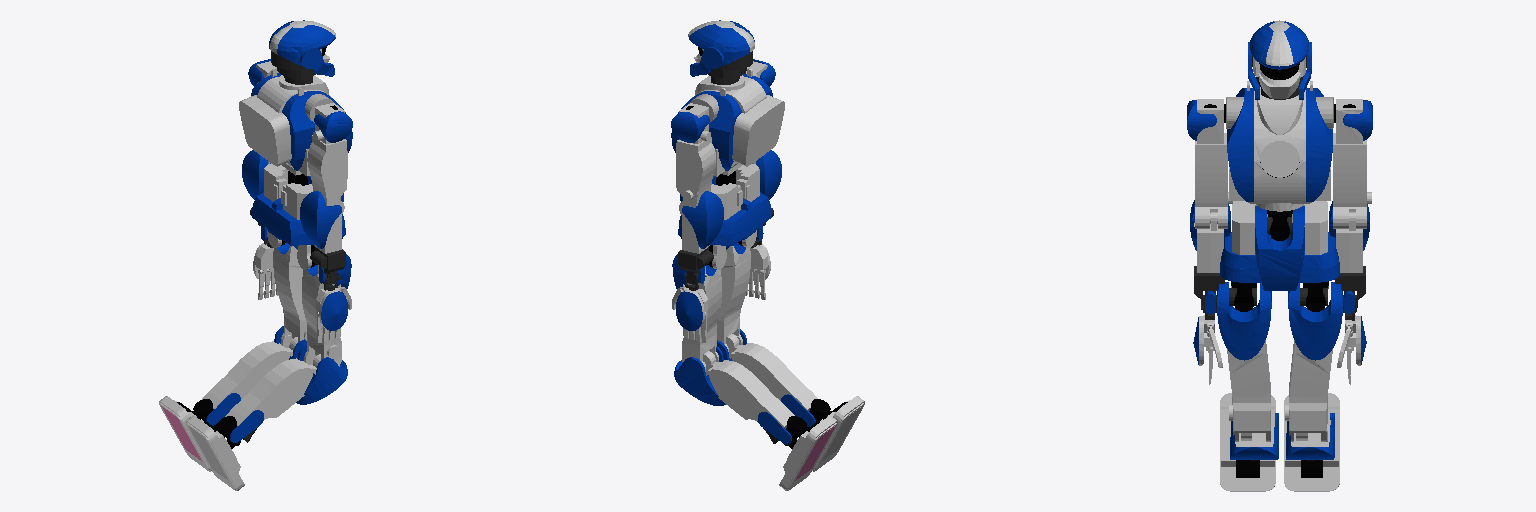
--- Facts derived from the render (not from the file) ---
Views: 3 orthographic renders of the robot side by side, from view 1: azimuth 30°, elevation 25°; view 2: azimuth 150°, elevation 25°; view 3: azimuth 270°, elevation 25°.
Model hrp4 with 55 links and 54 joints (24 revolute, 30 fixed), rooted at body, posed joints at zero except 2 at the middle of their limits (R_KNEE_P = 1.09, L_KNEE_P = 1.09).
Links seen in each view (by area): view 1: torso, R_KNEE_P_LINK, body, L_KNEE_P_LINK, NECK_P_LINK, L_HIP_P_LINK, R_SHOULDER_Y_LINK, R_HIP_P_LINK, R_ELBOW_P_LINK, r_ankle, R_SHOULDER_R_LINK, r_wrist (+4 smaller); view 2: torso, L_KNEE_P_LINK, body, R_KNEE_P_LINK, NECK_P_LINK, R_HIP_P_LINK, L_SHOULDER_Y_LINK, L_HIP_P_LINK, L_ELBOW_P_LINK, l_ankle, L_SHOULDER_R_LINK, l_wrist (+4 smaller); view 3: torso, body, L_HIP_P_LINK, R_HIP_P_LINK, NECK_P_LINK, L_SHOULDER_Y_LINK, R_SHOULDER_Y_LINK, r_ankle, l_ankle, R_ELBOW_P_LINK, L_ELBOW_P_LINK, R_SHOULDER_R_LINK (+10 smaller).
Link boxes in pixels (<box>): torso: <box>239,67,352,175</box>; R_KNEE_P_LINK: <box>225,343,347,442</box>; body: <box>252,164,345,245</box>; L_KNEE_P_LINK: <box>202,326,306,425</box>; NECK_P_LINK: <box>269,20,335,76</box>; L_HIP_P_LINK: <box>273,243,306,347</box>; R_SHOULDER_Y_LINK: <box>307,135,347,216</box>; R_HIP_P_LINK: <box>302,254,351,366</box>; R_ELBOW_P_LINK: <box>300,191,341,253</box>; r_ankle: <box>186,415,244,490</box>; R_SHOULDER_R_LINK: <box>313,103,352,143</box>; r_wrist: <box>316,275,347,330</box>; torso: <box>671,68,784,176</box>; L_KNEE_P_LINK: <box>674,347,794,444</box>; body: <box>678,164,771,245</box>; R_KNEE_P_LINK: <box>717,329,817,426</box>; NECK_P_LINK: <box>688,20,754,76</box>; R_HIP_P_LINK: <box>717,243,750,351</box>; L_SHOULDER_Y_LINK: <box>676,137,715,217</box>; L_HIP_P_LINK: <box>672,254,721,371</box>; L_ELBOW_P_LINK: <box>682,191,723,253</box>; l_ankle: <box>779,415,837,490</box>; L_SHOULDER_R_LINK: <box>671,103,710,143</box>; l_wrist: <box>676,273,707,330</box>; torso: <box>1226,81,1333,211</box>; body: <box>1220,201,1339,290</box>; L_HIP_P_LINK: <box>1285,282,1342,441</box>; R_HIP_P_LINK: <box>1217,282,1271,441</box>; NECK_P_LINK: <box>1248,20,1311,99</box>; L_SHOULDER_Y_LINK: <box>1333,133,1371,228</box>; R_SHOULDER_Y_LINK: <box>1195,133,1232,228</box>; r_ankle: <box>1220,393,1275,491</box>; l_ankle: <box>1284,393,1339,491</box>; R_ELBOW_P_LINK: <box>1190,200,1230,272</box>; L_ELBOW_P_LINK: <box>1329,201,1369,272</box>; R_SHOULDER_R_LINK: <box>1187,99,1223,143</box>.
Bounding box of the posed robot: 0.5198 × 0.456 × 1.39 m (x, y, z).
Meshes: 33 distinct files referenced, 54 mesh visuals loaded (33 Collada DAE).

URDF robot description (hrp4):
<?xml version="1.0" ?>
<!-- =================================================================================== -->
<!-- |    This document was autogenerated by xacro from [local-path]/devel-src/catkin_ws/mc_ws/src/hrp4/hrp4_description/urdf/hrp4.xacro | -->
<!-- |    EDITING THIS FILE BY HAND IS NOT RECOMMENDED                                 | -->
<!-- =================================================================================== -->
<!--
   hrp4 URDF model

   FIXME: fill missing data: sole, gripper and sensors
  -->
<robot name="hrp4" xmlns:xacro="http://ros.org/wiki/xacro">
  <link name="body">
    <inertial>
      <origin rpy="0 0 0" xyz="-0.0215609 0.00145914 0.14111505"/>
      <mass value="6.93472"/>
      <inertia ixx="0.05776087" ixy="7.331e-05" ixz="0.0014889" iyy="0.0285208" iyz="-0.00075717" izz="0.05527734"/>
    </inertial>
    <visual>
      <origin rpy="0 0 0" xyz="0 0 0"/>
      <geometry>
        <mesh filename="./meshes/WAIST_LINK.dae"/>
      </geometry>
    </visual>
    <collision>
      <origin rpy="0 0 0" xyz="0 0 0"/>
      <geometry>
        <mesh filename="./meshes/WAIST_LINK.dae"/>
      </geometry>
    </collision>
  </link>
  <link name="R_HIP_Y_LINK">
    <inertial>
      <origin rpy="0 0 0" xyz="-0.01667657 2e-08 0.04993135"/>
      <mass value="1.1356"/>
      <inertia ixx="0.00151524" ixy="-2.8e-07" ixz="-0.00048566" iyy="0.00231285" iyz="-0" izz="0.00149651"/>
    </inertial>
    <visual>
      <origin rpy="0 0 0" xyz="0 0 0"/>
      <geometry>
        <mesh filename="./meshes/HIP_Y.dae"/>
      </geometry>
    </visual>
    <collision>
      <origin rpy="0 0 0" xyz="0 0 0"/>
      <geometry>
        <mesh filename="./meshes/HIP_Y.dae"/>
      </geometry>
    </collision>
  </link>
  <link name="R_HIP_R_LINK">
    <inertial>
      <origin rpy="0 0 0" xyz="-0.00431692 0.00595121 -0.00052352"/>
      <mass value="0.58494148"/>
      <inertia ixx="0.00046475" ixy="-1.508e-05" ixz="-6.5e-07" iyy="0.00029804" iyz="2.39e-06" izz="0.00061763"/>
    </inertial>
    <visual>
      <origin rpy="0 0 0" xyz="0 0 0"/>
      <geometry>
        <mesh filename="./meshes/CHEST_P.dae"/>
      </geometry>
    </visual>
    <collision>
      <origin rpy="0 0 0" xyz="0 0 0"/>
      <geometry>
        <mesh filename="./meshes/CHEST_P.dae"/>
      </geometry>
    </collision>
  </link>
  <link name="R_HIP_P_LINK">
    <inertial>
      <origin rpy="0 0 0" xyz="0.00401404 0.01530275 -0.18851723"/>
      <mass value="2.0648"/>
      <inertia ixx="0.03160432" ixy="-3.38e-06" ixz="0.00063965" iyy="0.03070237" iyz="0.00133966" izz="0.00275655"/>
    </inertial>
    <visual>
      <origin rpy="0 0 0" xyz="0 0 0"/>
      <geometry>
        <mesh filename="./meshes/R_HIP_P.dae"/>
      </geometry>
    </visual>
    <collision>
      <origin rpy="0 0 0" xyz="0 0 0"/>
      <geometry>
        <mesh filename="./meshes/R_HIP_P.dae"/>
      </geometry>
    </collision>
  </link>
  <link name="R_KNEE_P_LINK">
    <inertial>
      <origin rpy="0 0 0" xyz="-0.01122115 -0.00133701 -0.15252868"/>
      <mass value="2.08123"/>
      <inertia ixx="0.01900442" ixy="-4.75e-06" ixz="-0.0014589" iyy="0.01944097" iyz="2.008e-05" izz="0.00189659"/>
    </inertial>
    <visual>
      <origin rpy="0 0 0" xyz="0 0 0"/>
      <geometry>
        <mesh filename="./meshes/R_KNEE_P.dae"/>
      </geometry>
    </visual>
    <collision>
      <origin rpy="0 0 0" xyz="0 0 0"/>
      <geometry>
        <mesh filename="./meshes/R_KNEE_P.dae"/>
      </geometry>
    </collision>
  </link>
  <link name="R_ANKLE_P_LINK">
    <inertial>
      <origin rpy="0 0 0" xyz="-0.00368911 -0.00015844 0.00129883"/>
      <mass value="0.26784726"/>
      <inertia ixx="8.094e-05" ixy="-1.6e-07" ixz="-1.33e-06" iyy="0.00015522" iyz="-7e-08" izz="0.00017313"/>
    </inertial>
    <visual>
      <origin rpy="0 0 0" xyz="0 0 0"/>
      <geometry>
        <mesh filename="./meshes/L_ANKLE_P.dae"/>
      </geometry>
    </visual>
    <collision>
      <origin rpy="0 0 0" xyz="0 0 0"/>
      <geometry>
        <mesh filename="./meshes/L_ANKLE_P.dae"/>
      </geometry>
    </collision>
  </link>
  <link name="R_ANKLE_R_LINK">
    <inertial>
      <origin rpy="0 0 0" xyz="-0.00340792 1e-08 -0.04591586"/>
      <mass value="0.72287828"/>
      <inertia ixx="0.00092215" ixy="0" ixz="0.00011963" iyy="0.00102289" iyz="0" izz="0.00089314"/>
    </inertial>
    <visual>
      <origin rpy="0 0 0" xyz="0 0 0"/>
      <geometry>
        <mesh filename="./meshes/R_ANKLE_R.dae"/>
      </geometry>
    </visual>
    <collision>
      <origin rpy="0 0 0" xyz="0 0 0"/>
      <geometry>
        <mesh filename="./meshes/R_ANKLE_R.dae"/>
      </geometry>
    </collision>
  </link>

  <link name="r_sole">
    <inertial>
      <origin rpy="0 0 0" xyz="0 0 0"/>
      <mass value="0.001"/>
      <inertia ixx="0.00001" ixy="0" ixz="0" iyy="0.00001" iyz="0" izz="0.00001"/>
    </inertial>

   <visual>
      <geometry>
        <box size="0.18 0.1 0.007"/>
      </geometry>
      <origin rpy="0 0 0" xyz="0.0 -0.01 0.0029"/>
    </visual>
   <collision>
     <geometry>
        <box size="0.18 0.1 0.007"/>
      </geometry>
      <origin rpy="0 0 0" xyz="0.0 -0.01 0.0029"/>
    </collision>
    <!--inertial>
      <mass value="1.0"/>
      <mu value="0.5"/>
      <inertia ixx="1.1e-09" ixy="0" ixz="0" iyy="1.1e-09" iyz="0" izz="1.1e-09"/>
    </inertial-->

  </link>
<!--
  <link name="r_sole">
 <collision>
      <geometry>
        <box size="0.08 0.08 0.001"/>
      </geometry>
      <origin rpy="0 0.00 0.002" xyz="0.0 0.005 0"/>
    </collision>
    <inertial>
      <mass value="2e-06"/>
      <inertia ixx="1.1e-09" ixy="0" ixz="0" iyy="1.1e-09" iyz="0" izz="1.1e-09"/>
    </inertial>
  </link>-->
  <link name="L_HIP_Y_LINK">
    <inertial>
      <origin rpy="0 0 0" xyz="-0.01667657 2e-08 0.04993135"/>
      <mass value="1.1356"/>
      <inertia ixx="0.00151524" ixy="-2.8e-07" ixz="-0.00048566" iyy="0.00231285" iyz="-0" izz="0.00149651"/>
    </inertial>
    <visual>
      <origin rpy="0 0 0" xyz="0 0 0"/>
      <geometry>
        <mesh filename="./meshes/HIP_Y.dae"/>
      </geometry>
    </visual>
    <collision>
      <origin rpy="0 0 0" xyz="0 0 0"/>
      <geometry>
        <mesh filename="./meshes/HIP_Y.dae"/>
      </geometry>
    </collision>
  </link>
  <link name="L_HIP_R_LINK">
    <inertial>
      <origin rpy="0 0 0" xyz="-0.00431692 0.00595121 -0.00052352"/>
      <mass value="0.58494148"/>
      <inertia ixx="0.00046475" ixy="-1.508e-05" ixz="-6.5e-07" iyy="0.00029804" iyz="2.39e-06" izz="0.00061763"/>
    </inertial>
    <visual>
      <origin rpy="0 0 0" xyz="0 0 0"/>
      <geometry>
        <mesh filename="./meshes/CHEST_P.dae"/>
      </geometry>
    </visual>
    <collision>
      <origin rpy="0 0 0" xyz="0 0 0"/>
      <geometry>
        <mesh filename="./meshes/CHEST_P.dae"/>
      </geometry>
    </collision>
  </link>
  <link name="L_HIP_P_LINK">
    <inertial>
      <origin rpy="0 0 0" xyz="0.00400906 -0.00541624 -0.18827632"/>
      <mass value="2.06366"/>
      <inertia ixx="0.03174381" ixy="9.784e-05" ixz="0.00063909" iyy="0.03068623" iyz="-0.00254187" izz="0.00291548"/>
    </inertial>
    <visual>
      <origin rpy="0 0 0" xyz="0 0 0"/>
      <geometry>
        <mesh filename="./meshes/L_HIP_P.dae"/>
      </geometry>
    </visual>
    <collision>
      <origin rpy="0 0 0" xyz="0 0 0"/>
      <geometry>
        <mesh filename="./meshes/L_HIP_P.dae"/>
      </geometry>
    </collision>
  </link>
  <link name="L_KNEE_P_LINK">
    <inertial>
      <origin rpy="0 0 0" xyz="-0.01122115 -0.00133701 -0.15252868"/>
      <mass value="2.08123"/>
      <inertia ixx="0.01900442" ixy="-4.75e-06" ixz="-0.0014589" iyy="0.01944097" iyz="2.008e-05" izz="0.00189659"/>
    </inertial>
    <visual>
      <origin rpy="0 0 0" xyz="0 0 0"/>
      <geometry>
        <mesh filename="./meshes/L_KNEE_P.dae"/>
      </geometry>
    </visual>
    <collision>
      <origin rpy="0 0 0" xyz="0 0 0"/>
      <geometry>
        <mesh filename="./meshes/L_KNEE_P.dae"/>
      </geometry>
    </collision>
  </link>
  <link name="L_ANKLE_P_LINK">
    <inertial>
      <origin rpy="0 0 0" xyz="-0.00368911 -0.00015844 0.00129883"/>
      <mass value="0.26784726"/>
      <inertia ixx="8.094e-05" ixy="-1.6e-07" ixz="-1.33e-06" iyy="0.00015522" iyz="-7e-08" izz="0.00017313"/>
    </inertial>
    <visual>
      <origin rpy="0 0 0" xyz="0 0 0"/>
      <geometry>
        <mesh filename="./meshes/L_ANKLE_P.dae"/>
      </geometry>
    </visual>
    <collision>
      <origin rpy="0 0 0" xyz="0 0 0"/>
      <geometry>
        <mesh filename="./meshes/L_ANKLE_P.dae"/>
      </geometry>
    </collision>
  </link>
  <link name="L_ANKLE_R_LINK">
    <inertial>
      <origin rpy="0 0 0" xyz="-0.00340792 0 -0.04591586"/>
      <mass value="0.72287828"/>
      <inertia ixx="0.00092215" ixy="-0" ixz="0.00011963" iyy="0.00102289" iyz="-0" izz="0.00089314"/>
    </inertial>
    <visual>
      <origin rpy="0 0 0" xyz="0 0 0"/>
      <geometry>
        <mesh filename="./meshes/L_ANKLE_R.dae"/>
      </geometry>
    </visual>
    <collision>
      <origin rpy="0 0 0" xyz="0 0 0"/>
      <geometry>
        <mesh filename="./meshes/L_ANKLE_R.dae"/>
      </geometry>
    </collision>
  </link>

  <link name="l_sole">
    <inertial>
      <origin rpy="0 0 0" xyz="0 0 0"/>
      <mass value="0.001"/>
      <inertia ixx="0.00001" ixy="0" ixz="0" iyy="0.00001" iyz="0" izz="0.00001"/>
    </inertial>

   <visual>
      <geometry>
        <box size="0.18 0.1 0.007"/>
      </geometry>
      <origin rpy="0 0 0" xyz="0.0 0.010 0.0029"/>
    </visual>
   <collision>
      <geometry>
        <box size="0.18 0.1 0.007"/>
      </geometry>
      <origin rpy="0 0 0" xyz="0.0 0.010 0.0029"/>
    </collision>
    <!--inertial>
      <mass value="1.0"/>
      <mu value="0.5"/>
      <inertia ixx="1.1e-09" ixy="0" ixz="0" iyy="1.1e-09" iyz="0" izz="1.1e-09"/>
    </inertial>
-->

  </link>
<!--
  <link name="l_sole">
   <collision>
      <geometry>
        <box size="0.14 0.078 0.007"/>
      </geometry>
      <origin rpy="0 0.00 0.002" xyz="0.0 0.005 0"/>
    </collision>
    <inertial>
      <mass value="2e-06"/>
      <inertia ixx="1.1e-09" ixy="0" ixz="0" iyy="1.1e-09" iyz="0" izz="1.1e-09"/>
    </inertial>
  </link>-->
  <link name="CHEST_P_LINK">
    <inertial>
      <origin rpy="0 0 0" xyz="-0.00442006 0.00280574 0.03664874"/>
      <mass value="1.24072"/>
      <inertia ixx="0.00250228" ixy="-1.572e-05" ixz="-1.986e-05" iyy="0.00266086" iyz="0.00013179" izz="0.0015461"/>
    </inertial>
    <visual>
      <origin rpy="0 0 0" xyz="0 0 0"/>
      <geometry>
        <mesh filename="./meshes/CHEST_P.dae"/>
      </geometry>
    </visual>
    <visual>
      <origin rpy="0 0 0" xyz="0 0 0"/>
      <geometry>
        <mesh filename="./meshes/CHEST_R.dae"/>
      </geometry>
    </visual>
    <collision>
      <origin rpy="0 0 0" xyz="0 0 0"/>
      <geometry>
        <mesh filename="./meshes/CHEST_P.dae"/>
      </geometry>
    </collision>
    <collision>
      <origin rpy="0 0 0" xyz="0 0 0"/>
      <geometry>
        <mesh filename="./meshes/CHEST_P.dae"/>
      </geometry>
    </collision>
  </link>
  <link name="torso">
    <inertial>
      <origin rpy="0 0 0" xyz="-0.02868847 -0.00245957 0.20400698"/>
      <mass value="6.67348"/>
      <inertia ixx="0.06656275" ixy="-9.681e-05" ixz="0.00599103" iyy="0.05508979" iyz="-0.00017557" izz="0.04262738"/>
    </inertial>
    <visual>
      <origin rpy="0 0 0" xyz="0 0 0"/>
      <geometry>
        <mesh filename="./meshes/CHEST_Y.dae"/>
      </geometry>
    </visual>
    <collision>
      <origin rpy="0 0 0" xyz="0 0 0"/>
      <geometry>
        <mesh filename="./meshes/CHEST_Y.dae"/>
      </geometry>
    </collision>
  </link>
  <link name="NECK_Y_LINK">
    <inertial>
      <origin rpy="0 0 0" xyz="-0.01142441 0.00157484 -0.02134892"/>
      <mass value="0.41214752"/>
      <inertia ixx="0.00061014" ixy="4.35e-06" ixz="7.329e-05" iyy="0.00068918" iyz="-1.384e-05" izz="0.00040587"/>
    </inertial>
    <visual>
      <origin rpy="0 0 0" xyz="0 0 0"/>
      <geometry>
        <mesh filename="./meshes/NECK_Y.dae"/>
      </geometry>
    </visual>
    <collision>
      <origin rpy="0 0 0" xyz="0 0 0"/>
      <geometry>
        <mesh filename="./meshes/NECK_Y.dae"/>
      </geometry>
    </collision>
  </link>
  <link name="NECK_P_LINK">
    <inertial>
      <origin rpy="0 0 0" xyz="0.00532833 -0.00053047 0.0176936"/>
      <mass value="0.22297511"/>
      <inertia ixx="0.00069884" ixy="-7e-07" ixz="3.33e-05" iyy="0.00093286" iyz="-1.51e-06" izz="0.00100342"/>
    </inertial>
    <visual>
      <origin rpy="0 0 0" xyz="0 0 0"/>
      <geometry>
        <mesh filename="./meshes/NECK_P.dae"/>
      </geometry>
    </visual>
    <collision>
      <origin rpy="0 0 0" xyz="0 0 0"/>
      <geometry>
        <mesh filename="./meshes/NECK_P.dae"/>
      </geometry>
    </collision>
  </link>
  <link name="R_SHOULDER_P_LINK">
    <inertial>
      <origin rpy="0 0 0" xyz="0.00141599 0.04257567 0.00031503"/>
      <mass value="0.42049079"/>
      <inertia ixx="0.00044203" ixy="-4.93e-06" ixz="-6.1e-07" iyy="0.00014181" iyz="-3.34e-06" izz="0.00044502"/>
    </inertial>
    <visual>
      <origin rpy="0 0 0" xyz="0 0 0"/>
      <geometry>
        <mesh filename="./meshes/R_SHOULDER_P.dae"/>
      </geometry>
    </visual>
    <collision>
      <origin rpy="0 0 0" xyz="0 0 0"/>
      <geometry>
        <mesh filename="./meshes/R_SHOULDER_P.dae"/>
      </geometry>
    </collision>
  </link>
  <link name="R_SHOULDER_R_LINK">
    <inertial>
      <origin rpy="0 0 0" xyz="0.00019752 -0.00272557 -0.04191141"/>
      <mass value="0.52070922"/>
      <inertia ixx="0.00062647" ixy="-7.3e-06" ixz="-6.476e-05" iyy="0.00071812" iyz="1.818e-05" izz="0.00029856"/>
    </inertial>
    <visual>
      <origin rpy="0 0 0" xyz="0 0 0"/>
      <geometry>
        <mesh filename="./meshes/R_SHOULDER_R.dae"/>
      </geometry>
    </visual>
    <collision>
      <origin rpy="0 0 0" xyz="0 0 0"/>
      <geometry>
        <mesh filename="./meshes/R_SHOULDER_R.dae"/>
      </geometry>
    </collision>
  </link>
  <link name="R_SHOULDER_Y_LINK">
    <inertial>
      <origin rpy="0 0 0" xyz="-0.00273859 -0.00036268 -0.17426645"/>
      <mass value="1.0874"/>
      <inertia ixx="0.00553694" ixy="1.18e-05" ixz="-4.295e-05" iyy="0.00556222" iyz="-9.379e-05" izz="0.00071841"/>
    </inertial>
    <visual>
      <origin rpy="0 0 0" xyz="0 0 0"/>
      <geometry>
        <mesh filename="./meshes/SHOULDER_Y.dae"/>
      </geometry>
    </visual>
    <collision>
      <origin rpy="0 0 0" xyz="0 0 0"/>
      <geometry>
        <mesh filename="./meshes/SHOULDER_Y.dae"/>
      </geometry>
    </collision>
  </link>
  <link name="R_ELBOW_P_LINK">
    <inertial>
      <origin rpy="0 0 0" xyz="-0.01222096 0.00049299 -0.07271909"/>
      <mass value="0.6594031"/>
      <inertia ixx="0.00121955" ixy="3.9e-06" ixz="4.22e-05" iyy="0.00135563" iyz="-1.497e-05" izz="0.00047041"/>
    </inertial>
    <visual>
      <origin rpy="0 0 0" xyz="0 0 0"/>
      <geometry>
        <mesh filename="./meshes/ELBOW_P.dae"/>
      </geometry>
    </visual>
    <collision>
      <origin rpy="0 0 0" xyz="0 0 0"/>
      <geometry>
        <mesh filename="./meshes/ELBOW_P.dae"/>
      </geometry>
    </collision>
  </link>
  <link name="R_WRIST_Y_LINK">
    <inertial>
      <origin rpy="0 0 0" xyz="-0.00749481 9.419e-05 -0.17044123"/>
      <mass value="0.38384092"/>
      <inertia ixx="0.00027044" ixy="-9.74e-06" ixz="1.069e-05" iyy="0.00027334" iyz="1.745e-05" izz="0.00022347"/>
    </inertial>
    <visual>
      <origin rpy="0 0 0" xyz="0 0 0"/>
      <geometry>
        <mesh filename="./meshes/R_WRIST_Y.dae"/>
      </geometry>
    </visual>
    <collision>
      <origin rpy="0 0 0" xyz="0 0 0"/>
      <geometry>
        <mesh filename="./meshes/R_WRIST_Y.dae"/>
      </geometry>
    </collision>
  </link>
  <link name="R_WRIST_P_LINK">
    <inertial>
      <origin rpy="0 0 0" xyz="0.00255098 0.00162183 0.01074678"/>
      <mass value="0.25425855"/>
      <inertia ixx="8.763e-05" ixy="1.53e-06" ixz="-3.48e-06" iyy="9.159e-05" iyz="4.48e-06" izz="5.571e-05"/>
    </inertial>
    <visual>
      <origin rpy="0 0 0" xyz="0 0 0"/>
      <geometry>
        <mesh filename="./meshes/WRIST_P.dae"/>
      </geometry>
    </visual>
    <collision>
      <origin rpy="0 0 0" xyz="0 0 0"/>
      <geometry>
        <mesh filename="./meshes/WRIST_P.dae"/>
      </geometry>
    </collision>
  </link>
  <link name="r_wrist">
    <inertial>
      <origin rpy="0 0 0" xyz="-0.00357307 -0.00756083 -0.07562434"/>
      <mass value="0.38811052"/>
      <inertia ixx="0.00041744" ixy="-2.58e-06" ixz="-3.079e-05" iyy="0.00053272" iyz="-4.178e-05" izz="0.00022506"/>
    </inertial>
    <visual>
      <origin rpy="0 0 0" xyz="0 0 0"/>
      <geometry>
        <mesh filename="./meshes/R_WRIST_R.dae"/>
      </geometry>
    </visual>
    <collision>
      <origin rpy="0 0 0" xyz="0 0 0"/>
      <geometry>
        <mesh filename="./meshes/R_WRIST_R.dae"/>
      </geometry>
    </collision>
  </link>
  <link name="R_HAND_J0_LINK">
    <inertial>
      <origin rpy="0 0 0" xyz="0.03905018 0.0103447 -0.02583122"/>
      <mass value="0.02982352"/>
      <inertia ixx="1.307e-05" ixy="-6.2e-06" ixz="1.249e-05" iyy="2.885e-05" iyz="4.36e-06" izz="2.119e-05"/>
    </inertial>
    <visual>
      <origin rpy="0 0 0" xyz="0 0 0"/>
      <geometry>
        <mesh filename="./meshes/R_THUMB.dae"/>
      </geometry>
    </visual>
    <collision>
      <origin rpy="0 0 0" xyz="0 0 0"/>
      <geometry>
        <mesh filename="./meshes/R_THUMB.dae"/>
      </geometry>
    </collision>
  </link>
  <link name="R_HAND_J1_LINK">
    <inertial>
      <origin rpy="0 0 0" xyz="-0.00520681 -8.854e-05 -0.01902284"/>
      <mass value="0.07696483"/>
      <inertia ixx="2.17e-05" ixy="-3e-08" ixz="-2.2e-07" iyy="5.741e-05" iyz="1e-07" izz="3.728e-05"/>
    </inertial>
    <visual>
      <origin rpy="0 0 0" xyz="0 0 0"/>
      <geometry>
        <mesh filename="./meshes/R_F1.dae"/>
      </geometry>
    </visual>
    <collision>
      <origin rpy="0 0 0" xyz="0 0 0"/>
      <geometry>
        <mesh filename="./meshes/R_F1.dae"/>
      </geometry>
    </collision>
  </link>
  <link name="R_F22_LINK">
    <inertial>
      <origin rpy="0 0 0" xyz="-0.00031853 0.00034526 -0.01168186"/>
      <mass value="0.00446884"/>
      <inertia ixx="3.2e-07" ixy="-0" ixz="-0" iyy="3.4e-07" iyz="-0" izz="9e-08"/>
    </inertial>
    <visual>
      <origin rpy="0 0 0" xyz="0 0 0"/>
      <geometry>
        <mesh filename="./meshes/F2.dae"/>
      </geometry>
    </visual>
    <collision>
      <origin rpy="0 0 0" xyz="0 0 0"/>
      <geometry>
        <mesh filename="./meshes/F2.dae"/>
      </geometry>
    </collision>
  </link>
  <link name="R_F23_LINK">
    <inertial>
      <origin rpy="0 0 0" xyz="-0.00035576 -0.00103228 -0.00714888"/>
      <mass value="0.0028745"/>
      <inertia ixx="1.6e-07" ixy="0" ixz="1e-08" iyy="2.1e-07" iyz="-2e-08" izz="7e-08"/>
    </inertial>
    <visual>
      <origin rpy="0 0 0" xyz="0 0 0"/>
      <geometry>
        <mesh filename="./meshes/F3.dae"/>
      </geometry>
    </visual>
    <collision>
      <origin rpy="0 0 0" xyz="0 0 0"/>
      <geometry>
        <mesh filename="./meshes/F3.dae"/>
      </geometry>
    </collision>
  </link>
  <link name="R_F32_LINK">
    <inertial>
      <origin rpy="0 0 0" xyz="-0.00031853 0.00034526 -0.01168186"/>
      <mass value="0.00446884"/>
      <inertia ixx="3.2e-07" ixy="-0" ixz="-0" iyy="3.4e-07" iyz="-0" izz="9e-08"/>
    </inertial>
    <visual>
      <origin rpy="0 0 0" xyz="0 0 0"/>
      <geometry>
        <mesh filename="./meshes/F2.dae"/>
      </geometry>
    </visual>
    <collision>
      <origin rpy="0 0 0" xyz="0 0 0"/>
      <geometry>
        <mesh filename="./meshes/F2.dae"/>
      </geometry>
    </collision>
  </link>
  <link name="R_F33_LINK">
    <inertial>
      <origin rpy="0 0 0" xyz="-0.00035576 -0.00103228 -0.00714888"/>
      <mass value="0.0028745"/>
      <inertia ixx="1.6e-07" ixy="0" ixz="1e-08" iyy="2.1e-07" iyz="-2e-08" izz="7e-08"/>
    </inertial>
    <visual>
      <origin rpy="0 0 0" xyz="0 0 0"/>
      <geometry>
        <mesh filename="./meshes/F3.dae"/>
      </geometry>
    </visual>
    <collision>
      <origin rpy="0 0 0" xyz="0 0 0"/>
      <geometry>
        <mesh filename="./meshes/F3.dae"/>
      </geometry>
    </collision>
  </link>
  <link name="R_F42_LINK">
    <inertial>
      <origin rpy="0 0 0" xyz="-0.00031853 0.00034526 -0.01168186"/>
      <mass value="0.00446884"/>
      <inertia ixx="3.2e-07" ixy="-0" ixz="-0" iyy="3.4e-07" iyz="-0" izz="9e-08"/>
    </inertial>
    <visual>
      <origin rpy="0 0 0" xyz="0 0 0"/>
      <geometry>
        <mesh filename="./meshes/F2.dae"/>
      </geometry>
    </visual>
    <collision>
      <origin rpy="0 0 0" xyz="0 0 0"/>
      <geometry>
        <mesh filename="./meshes/F2.dae"/>
      </geometry>
    </collision>
  </link>
  <link name="R_F43_LINK">
    <inertial>
      <origin rpy="0 0 0" xyz="-0.00035576 -0.00103228 -0.00714888"/>
      <mass value="0.0028745"/>
      <inertia ixx="1.6e-07" ixy="0" ixz="1e-08" iyy="2.1e-07" iyz="-2e-08" izz="7e-08"/>
    </inertial>
    <visual>
      <origin rpy="0 0 0" xyz="0 0 0"/>
      <geometry>
        <mesh filename="./meshes/F3.dae"/>
      </geometry>
    </visual>
    <collision>
      <origin rpy="0 0 0" xyz="0 0 0"/>
      <geometry>
        <mesh filename="./meshes/F3.dae"/>
      </geometry>
    </collision>
  </link>
  <link name="R_F52_LINK">
    <inertial>
      <origin rpy="0 0 0" xyz="-0.00031853 0.00034526 -0.01168186"/>
      <mass value="0.00446884"/>
      <inertia ixx="3.2e-07" ixy="-0" ixz="-0" iyy="3.4e-07" iyz="-0" izz="9e-08"/>
    </inertial>
    <visual>
      <origin rpy="0 0 0" xyz="0 0 0"/>
      <geometry>
        <mesh filename="./meshes/F2.dae"/>
      </geometry>
    </visual>
    <collision>
      <origin rpy="0 0 0" xyz="0 0 0"/>
      <geometry>
        <mesh filename="./meshes/F2.dae"/>
      </geometry>
    </collision>
  </link>
  <link name="R_F53_LINK">
    <inertial>
      <origin rpy="0 0 0" xyz="-0.00035576 -0.00103228 -0.00714888"/>
      <mass value="0.0028745"/>
      <inertia ixx="1.6e-07" ixy="0" ixz="1e-08" iyy="2.1e-07" iyz="-2e-08" izz="7e-08"/>
    </inertial>
    <visual>
      <origin rpy="0 0 0" xyz="0 0 0"/>
      <geometry>
        <mesh filename="./meshes/F3.dae"/>
      </geometry>
    </visual>
    <collision>
      <origin rpy="0 0 0" xyz="0 0 0"/>
      <geometry>
        <mesh filename="./meshes/F3.dae"/>
      </geometry>
    </collision>
  </link>
  <link name="L_SHOULDER_P_LINK">
    <inertial>
      <origin rpy="0 0 0" xyz="0.00141599 -0.04257567 -0.00031503"/>
      <mass value="0.42049079"/>
      <inertia ixx="0.00044203" ixy="4.93e-06" ixz="6.1e-07" iyy="0.00014181" iyz="-3.34e-06" izz="0.00044502"/>
    </inertial>
    <visual>
      <origin rpy="0 0 0" xyz="0 0 0"/>
      <geometry>
        <mesh filename="./meshes/L_SHOULDER_P.dae"/>
      </geometry>
    </visual>
    <collision>
      <origin rpy="0 0 0" xyz="0 0 0"/>
      <geometry>
        <mesh filename="./meshes/L_SHOULDER_P.dae"/>
      </geometry>
    </collision>
  </link>
  <link name="L_SHOULDER_R_LINK">
    <inertial>
      <origin rpy="0 0 0" xyz="0.00019752 -8.916e-05 -0.04191141"/>
      <mass value="0.52070922"/>
      <inertia ixx="0.00063033" ixy="-6.01e-06" ixz="-6.476e-05" iyy="0.00071812" iyz="-2.895e-05" izz="0.00030242"/>
    </inertial>
    <visual>
      <origin rpy="0 0 0" xyz="0 0 0"/>
      <geometry>
        <mesh filename="./meshes/L_SHOULDER_R.dae"/>
      </geometry>
    </visual>
    <collision>
      <origin rpy="0 0 0" xyz="0 0 0"/>
      <geometry>
        <mesh filename="./meshes/L_SHOULDER_R.dae"/>
      </geometry>
    </collision>
  </link>
  <link name="L_SHOULDER_Y_LINK">
    <inertial>
      <origin rpy="0 0 0" xyz="-0.00273859 -0.00036268 -0.17426645"/>
      <mass value="1.0874"/>
      <inertia ixx="0.00553694" ixy="1.18e-05" ixz="-4.295e-05" iyy="0.00556222" iyz="-9.379e-05" izz="0.00071841"/>
    </inertial>
    <visual>
      <origin rpy="0 0 0" xyz="0 0 0"/>
      <geometry>
        <mesh filename="./meshes/SHOULDER_Y.dae"/>
      </geometry>
    </visual>
    <collision>
      <origin rpy="0 0 0" xyz="0 0 0"/>
      <geometry>
        <mesh filename="./meshes/SHOULDER_Y.dae"/>
      </geometry>
    </collision>
  </link>
  <link name="L_ELBOW_P_LINK">
    <inertial>
      <origin rpy="0 0 0" xyz="-0.01222096 0.00049299 -0.07271909"/>
      <mass value="0.6594031"/>
      <inertia ixx="0.00121955" ixy="3.9e-06" ixz="4.22e-05" iyy="0.00135563" iyz="-1.497e-05" izz="0.00047041"/>
    </inertial>
    <visual>
      <origin rpy="0 0 0" xyz="0 0 0"/>
      <geometry>
        <mesh filename="./meshes/ELBOW_P.dae"/>
      </geometry>
    </visual>
    <collision>
      <origin rpy="0 0 0" xyz="0 0 0"/>
      <geometry>
        <mesh filename="./meshes/ELBOW_P.dae"/>
      </geometry>
    </collision>
  </link>
  <link name="L_WRIST_Y_LINK">
    <inertial>
      <origin rpy="0 0 0" xyz="-0.00749574 -9.418e-05 -0.17044123"/>
      <mass value="0.38384092"/>
      <inertia ixx="0.00027044" ixy="9.76e-06" ixz="1.07e-05" iyy="0.00027334" iyz="-1.745e-05" izz="0.00022346"/>
    </inertial>
    <visual>
      <origin rpy="0 0 0" xyz="0 0 0"/>
      <geometry>
        <mesh filename="./meshes/L_WRIST_Y.dae"/>
      </geometry>
    </visual>
    <collision>
      <origin rpy="0 0 0" xyz="0 0 0"/>
      <geometry>
        <mesh filename="./meshes/L_WRIST_Y.dae"/>
      </geometry>
    </collision>
  </link>
  <link name="L_WRIST_P_LINK">
    <inertial>
      <origin rpy="0 0 0" xyz="-0.00255098 -0.00162183 0.01074678"/>
      <mass value="0.25425855"/>
      <inertia ixx="8.763e-05" ixy="1.53e-06" ixz="3.48e-06" iyy="9.159e-05" iyz="-4.48e-06" izz="5.571e-05"/>
    </inertial>
    <visual>
      <origin rpy="0 0 0" xyz="0 0 0"/>
      <geometry>
        <mesh filename="./meshes/WRIST_P.dae"/>
      </geometry>
    </visual>
    <collision>
      <origin rpy="0 0 0" xyz="0 0 0"/>
      <geometry>
        <mesh filename="./meshes/WRIST_P.dae"/>
      </geometry>
    </collision>
  </link>
  <link name="l_wrist">
    <inertial>
      <origin rpy="0 0 0" xyz="-0.00241915 0.00756006 -0.07562466"/>
      <mass value="0.38811052"/>
      <inertia ixx="0.00041745" ixy="4.71e-06" ixz="-6.41e-05" iyy="0.00053559" iyz="4.177e-05" izz="0.00022792"/>
    </inertial>
    <visual>
      <origin rpy="0 0 0" xyz="0 0 0"/>
      <geometry>
        <mesh filename="./meshes/L_WRIST_R.dae"/>
      </geometry>
    </visual>
    <collision>
      <origin rpy="0 0 0" xyz="0 0 0"/>
      <geometry>
        <mesh filename="./meshes/L_WRIST_R.dae"/>
      </geometry>
    </collision>
  </link>
  <link name="L_HAND_J0_LINK">
    <inertial>
      <origin rpy="0 0 0" xyz="0.03905018 -0.0103447 -0.02583122"/>
      <mass value="0.02982352"/>
      <inertia ixx="1.307e-05" ixy="6.2e-06" ixz="1.249e-05" iyy="2.885e-05" iyz="-4.36e-06" izz="2.119e-05"/>
    </inertial>
    <visual>
      <origin rpy="0 0 0" xyz="0 0 0"/>
      <geometry>
        <mesh filename="./meshes/L_THUMB.dae"/>
      </geometry>
    </visual>
    <collision>
      <origin rpy="0 0 0" xyz="0 0 0"/>
      <geometry>
        <mesh filename="./meshes/L_THUMB.dae"/>
      </geometry>
    </collision>
  </link>
  <link name="L_HAND_J1_LINK">
    <inertial>
      <origin rpy="0 0 0" xyz="-0.00479332 8.854e-05 -0.01902284"/>
      <mass value="0.07696483"/>
      <inertia ixx="2.17e-05" ixy="-3e-08" ixz="2.3e-07" iyy="5.741e-05" iyz="-1e-07" izz="3.728e-05"/>
    </inertial>
    <visual>
      <origin rpy="0 0 0" xyz="0 0 0"/>
      <geometry>
        <mesh filename="./meshes/L_F1.dae"/>
      </geometry>
    </visual>
    <collision>
      <origin rpy="0 0 0" xyz="0 0 0"/>
      <geometry>
        <mesh filename="./meshes/L_F1.dae"/>
      </geometry>
    </collision>
  </link>
  <link name="L_F22_LINK">
    <inertial>
      <origin rpy="0 0 0" xyz="0.00031853 -0.00034526 -0.01168186"/>
      <mass value="0.00446884"/>
      <inertia ixx="3.2e-07" ixy="-0" ixz="0" iyy="3.4e-07" iyz="0" izz="9e-08"/>
    </inertial>
    <visual>
      <origin rpy="0 0 0" xyz="0 0 0"/>
      <geometry>
        <mesh filename="./meshes/F2.dae"/>
      </geometry>
    </visual>
    <collision>
      <origin rpy="0 0 0" xyz="0 0 0"/>
      <geometry>
        <mesh filename="./meshes/F2.dae"/>
      </geometry>
    </collision>
  </link>
  <link name="L_F23_LINK">
    <inertial>
      <origin rpy="0 0 0" xyz="0.00035576 0.00103228 -0.00714888"/>
      <mass value="0.0028745"/>
      <inertia ixx="1.6e-07" ixy="0" ixz="-1e-08" iyy="2.1e-07" iyz="2e-08" izz="7e-08"/>
    </inertial>
    <visual>
      <origin rpy="0 0 0" xyz="0 0 0"/>
      <geometry>
        <mesh filename="./meshes/F3.dae"/>
      </geometry>
    </visual>
    <collision>
      <origin rpy="0 0 0" xyz="0 0 0"/>
      <geometry>
        <mesh filename="./meshes/F3.dae"/>
      </geometry>
    </collision>
  </link>
  <link name="L_F32_LINK">
    <inertial>
      <origin rpy="0 0 0" xyz="0.00031853 -0.00034526 -0.01168186"/>
      <mass value="0.00446884"/>
      <inertia ixx="3.2e-07" ixy="-0" ixz="0" iyy="3.4e-07" iyz="0" izz="9e-08"/>
    </inertial>
    <visual>
      <origin rpy="0 0 0" xyz="0 0 0"/>
      <geometry>
        <mesh filename="./meshes/F2.dae"/>
      </geometry>
    </visual>
    <collision>
      <origin rpy="0 0 0" xyz="0 0 0"/>
      <geometry>
        <mesh filename="./meshes/F2.dae"/>
      </geometry>
    </collision>
  </link>
  <link name="L_F33_LINK">
    <inertial>
      <origin rpy="0 0 0" xyz="0.00035576 0.00103228 -0.00714888"/>
      <mass value="0.0028745"/>
      <inertia ixx="1.6e-07" ixy="0" ixz="-1e-08" iyy="2.1e-07" iyz="2e-08" izz="7e-08"/>
    </inertial>
    <visual>
      <origin rpy="0 0 0" xyz="0 0 0"/>
      <geometry>
        <mesh filename="./meshes/F3.dae"/>
      </geometry>
    </visual>
    <collision>
      <origin rpy="0 0 0" xyz="0 0 0"/>
      <geometry>
        <mesh filename="./meshes/F3.dae"/>
      </geometry>
    </collision>
  </link>
  <link name="L_F42_LINK">
    <inertial>
      <origin rpy="0 0 0" xyz="0.00031853 -0.00034526 -0.01168186"/>
      <mass value="0.00446884"/>
      <inertia ixx="3.2e-07" ixy="-0" ixz="0" iyy="3.4e-07" iyz="0" izz="9e-08"/>
    </inertial>
    <visual>
      <origin rpy="0 0 0" xyz="0 0 0"/>
      <geometry>
        <mesh filename="./meshes/F2.dae"/>
      </geometry>
    </visual>
    <collision>
      <origin rpy="0 0 0" xyz="0 0 0"/>
      <geometry>
        <mesh filename="./meshes/F2.dae"/>
      </geometry>
    </collision>
  </link>
  <link name="L_F43_LINK">
    <inertial>
      <origin rpy="0 0 0" xyz="0.00035576 0.00103228 -0.00714888"/>
      <mass value="0.0028745"/>
      <inertia ixx="1.6e-07" ixy="0" ixz="-1e-08" iyy="2.1e-07" iyz="2e-08" izz="7e-08"/>
    </inertial>
    <visual>
      <origin rpy="0 0 0" xyz="0 0 0"/>
      <geometry>
        <mesh filename="./meshes/F3.dae"/>
      </geometry>
    </visual>
    <collision>
      <origin rpy="0 0 0" xyz="0 0 0"/>
      <geometry>
        <mesh filename="./meshes/F3.dae"/>
      </geometry>
    </collision>
  </link>
  <link name="L_F52_LINK">
    <inertial>
      <origin rpy="0 0 0" xyz="0.00031853 -0.00034526 -0.01168186"/>
      <mass value="0.00446884"/>
      <inertia ixx="3.2e-07" ixy="-0" ixz="0" iyy="3.4e-07" iyz="0" izz="9e-08"/>
    </inertial>
    <visual>
      <origin rpy="0 0 0" xyz="0 0 0"/>
      <geometry>
        <mesh filename="./meshes/F2.dae"/>
      </geometry>
    </visual>
    <collision>
      <origin rpy="0 0 0" xyz="0 0 0"/>
      <geometry>
        <mesh filename="./meshes/F2.dae"/>
      </geometry>
    </collision>
  </link>
  <link name="L_F53_LINK">
    <inertial>
      <origin rpy="0 0 0" xyz="0.00035576 0.00103228 -0.00714888"/>
      <mass value="0.0028745"/>
      <inertia ixx="1.6e-07" ixy="0" ixz="-1e-08" iyy="2.1e-07" iyz="2e-08" izz="7e-08"/>
    </inertial>
    <visual>
      <origin rpy="0 0 0" xyz="0 0 0"/>
      <geometry>
        <mesh filename="./meshes/F3.dae"/>
      </geometry>
    </visual>
    <collision>
      <origin rpy="0 0 0" xyz="0 0 0"/>
      <geometry>
        <mesh filename="./meshes/F3.dae"/>
      </geometry>
    </collision>
  </link>
  <!--   Joints following below -->
  <joint name="R_HIP_Y" type="revolute">
    <origin rpy="0 0 0" xyz="0 -0.0875 0"/>
    <axis xyz="0 0 1"/>
    <parent link="body"/>
    <child link="R_HIP_Y_LINK"/>
    <limit effort="41.65" lower="-0.78539815" upper="0.78539815" velocity="5.0789081233"/>
  </joint>
  <joint name="R_HIP_R" type="revolute">
    <origin rpy="0 0 0" xyz="0 0 0"/>
    <axis xyz="1 0 0"/>
    <parent link="R_HIP_Y_LINK"/>
    <child link="R_HIP_R_LINK"/>
    <limit effort="224.91" lower="-0.436332305555556" upper="0.436332305555556" velocity="2.82743338823"/>
  </joint>
  <joint name="R_HIP_P" type="revolute">
    <origin rpy="0 0 0" xyz="0 0 0"/>
    <axis xyz="0 1 0"/>
    <parent link="R_HIP_R_LINK"/>
    <child link="R_HIP_P_LINK"/>
    <limit effort="114.95" lower="-1.34390350111111" upper="0.418879013333333" velocity="5.51873109481"/>
  </joint>
  <joint name="R_KNEE_P" type="revolute">
    <origin rpy="0 0 0" xyz="0 0.01905 -0.358"/>
    <axis xyz="0 1 0"/>
    <parent link="R_HIP_P_LINK"/>
    <child link="R_KNEE_P_LINK"/>
    <limit effort="242.76" lower="0.0122173045555556" upper="2.17642554011111" velocity="2.61799387799"/>
  </joint>
  <joint name="R_ANKLE_P" type="revolute">
    <origin rpy="0 0 0" xyz="0 0 -0.341150992963526"/>
    <axis xyz="0 1 0"/>
    <parent link="R_KNEE_P_LINK"/>
    <child link="R_ANKLE_P_LINK"/>
    <limit effort="163.41" lower="-0.989601669" upper="0.267035371" velocity="4.71238898038"/>
  </joint>
  <joint name="R_ANKLE_R" type="revolute">
    <origin rpy="0 0 0" xyz="0 0 0"/>
    <axis xyz="1 0 0"/>
    <parent link="R_ANKLE_P_LINK"/>
    <child link="R_ANKLE_R_LINK"/>
    <limit effort="42.07" lower="-0.593411935555556" upper="0.593411935555556" velocity="5.02654824574"/>
  </joint>
  <joint name="L_HIP_Y" type="revolute">
    <origin rpy="0 0 0" xyz="0 0.0875 0"/>
    <axis xyz="0 0 1"/>
    <parent link="body"/>
    <child link="L_HIP_Y_LINK"/>
    <limit effort="41.65" lower="-0.78539815" upper="0.78539815" velocity="5.0789081233"/>
  </joint>
  <joint name="L_HIP_R" type="revolute">
    <origin rpy="0 0 0" xyz="0 0 0"/>
    <axis xyz="1 0 0"/>
    <parent link="L_HIP_Y_LINK"/>
    <child link="L_HIP_R_LINK"/>
    <limit effort="224.91" lower="-0.436332305555556" upper="0.436332305555556" velocity="2.82743338823"/>
  </joint>
  <joint name="L_HIP_P" type="revolute">
    <origin rpy="0 0 0" xyz="0 0 0"/>
    <axis xyz="0 1 0"/>
    <parent link="L_HIP_R_LINK"/>
    <child link="L_HIP_P_LINK"/>
    <limit effort="114.95" lower="-1.34390350111111" upper="0.418879013333333" velocity="5.51873109481"/>
  </joint>
  <joint name="L_KNEE_P" type="revolute">
    <origin rpy="0 0 0" xyz="0 -0.01905 -0.358"/>
    <axis xyz="0 1 0"/>
    <parent link="L_HIP_P_LINK"/>
    <child link="L_KNEE_P_LINK"/>
    <limit effort="242.76" lower="0.0122173045555556" upper="2.17642554011111" velocity="2.61799387799"/>
  </joint>
  <joint name="L_ANKLE_P" type="revolute">
    <origin rpy="0 0 0" xyz="0 0 -0.341150992963526"/>
    <axis xyz="0 1 0"/>
    <parent link="L_KNEE_P_LINK"/>
    <child link="L_ANKLE_P_LINK"/>
    <limit effort="163.41" lower="-0.989601669" upper="0.267035371" velocity="4.71238898038"/>
  </joint>
  <joint name="L_ANKLE_R" type="revolute">
    <origin rpy="0 0 0" xyz="0 0 0"/>
    <axis xyz="1 0 0"/>
    <parent link="L_ANKLE_P_LINK"/>
    <child link="L_ANKLE_R_LINK"/>
    <limit effort="42.07" lower="-0.593411935555556" upper="0.593411935555556" velocity="5.02654824574"/>
  </joint>
  <joint name="CHEST_P" type="revolute">
    <origin rpy="0 0 0" xyz="0.01 0 0.197"/>
    <axis xyz="0 1 0"/>
    <parent link="body"/>
    <child link="CHEST_P_LINK"/>
    <limit effort="114.95" lower="-0.209439506666667" upper="0.523598766666667" velocity="5.51873109481"/>
  </joint>
  <joint name="CHEST_Y" type="revolute">
    <origin rpy="0 0 0" xyz="0 0 0"/>
    <axis xyz="0 0 1"/>
    <parent link="CHEST_P_LINK"/>
    <child link="torso"/>
    <limit effort="107.1" lower="-0.610865227777778" upper="0.610865227777778" velocity="5.92713813977"/>
  </joint>
  <joint name="NECK_Y" type="revolute">
    <origin rpy="0 0 0" xyz="-0.04 0 0.434"/>
    <axis xyz="0 0 1"/>
    <parent link="torso"/>
    <child link="NECK_Y_LINK"/>
    <limit effort="12.4" lower="-1.22173045555556" upper="1.22173045555556" velocity="4.1154863762"/>
  </joint>
  <joint name="NECK_P" type="revolute">
    <origin rpy="0 0 0" xyz="0 0 0"/>
    <axis xyz="0 1 0"/>
    <parent link="NECK_Y_LINK"/>
    <child link="NECK_P_LINK"/>
    <limit effort="12.4" lower="-0.523598766666667" upper="0.436332305555556" velocity="4.1154863762"/>
  </joint>
  <joint name="R_SHOULDER_P" type="revolute">
    <origin rpy="0 0 0" xyz="-0.04 -0.17 0.285"/>
    <axis xyz="0 1 0"/>
    <parent link="torso"/>
    <child link="R_SHOULDER_P_LINK"/>
    <limit effort="214.2" lower="-2.56563395666667" upper="1.04719753333333" velocity="2.96356906989"/>
  </joint>
  <joint name="R_SHOULDER_R" type="revolute">
    <origin rpy="0 0 0" xyz="0 0 0"/>
    <axis xyz="1 0 0"/>
    <parent link="R_SHOULDER_P_LINK"/>
    <child link="R_SHOULDER_R_LINK"/>
    <limit effort="60.6" lower="-1.55334300777778" upper="0.174532922222222" velocity="2.05250720035"/>
  </joint>
  <joint name="R_SHOULDER_Y" type="revolute">
    <origin rpy="0 0 0" xyz="0 0 0"/>
    <axis xyz="0 0 1"/>
    <parent link="R_SHOULDER_R_LINK"/>
    <child link="R_SHOULDER_Y_LINK"/>
    <limit effort="63.82" lower="-1.60570288444444" upper="1.60570288444444" velocity="2.94262511886"/>
  </joint>
  <joint name="R_ELBOW_P" type="revolute">
    <origin rpy="0 0 0" xyz="0 0 -0.283"/>
    <axis xyz="0 1 0"/>
    <parent link="R_SHOULDER_Y_LINK"/>
    <child link="R_ELBOW_P_LINK"/>
    <limit effort="46.99" lower="-2.14675494333333" upper="0.0349065844444444" velocity="2.64940980453"/>
  </joint>
  <joint name="R_WRIST_Y" type="fixed">
    <origin rpy="0 0 0" xyz="0 0 0"/>
    <axis xyz="0 0 1"/>
    <parent link="R_ELBOW_P_LINK"/>
    <child link="R_WRIST_Y_LINK"/>
    <limit effort="12.4" lower="-1.60570288444444" upper="1.60570288444444" velocity="4.1154863762"/>
  </joint>
  <joint name="R_WRIST_P" type="fixed">
    <origin rpy="0 0 0" xyz="0 0 -0.234"/>
    <axis xyz="0 1 0"/>
    <parent link="R_WRIST_Y_LINK"/>
    <child link="R_WRIST_P_LINK"/>
    <limit effort="12.4" lower="-0.715584981111111" upper="0.715584981111111" velocity="4.1154863762"/>
  </joint>
  <joint name="R_WRIST_R" type="fixed">
    <origin rpy="0 0 0" xyz="0 0 0"/>
    <axis xyz="1 0 0"/>
    <parent link="R_WRIST_P_LINK"/>
    <child link="r_wrist"/>
    <limit effort="12.4" lower="-1.60570288444444" upper="1.60570288444444" velocity="4.1154863762"/>
  </joint>
  <joint name="R_HAND_J0" type="fixed">
    <origin rpy="0 0.4118977034707 0" xyz="0.03419 0 -0.039"/>
    <axis xyz="0 0 1"/>
    <parent link="r_wrist"/>
    <child link="R_HAND_J0_LINK"/>
    <limit effort="1.06" lower="0" upper="1.5707963" velocity="16.9541283539"/>
  </joint>
  <joint name="R_HAND_J1" type="fixed">
    <origin rpy="0 0 0" xyz="0 0 -0.111"/>
    <axis xyz="1 0 0"/>
    <parent link="r_wrist"/>
    <child link="R_HAND_J1_LINK"/>
    <limit effort="1.59" lower="-0.174532922222222" upper="1.5707963" velocity="11.2992615774"/>
  </joint>
  <joint name="L_SHOULDER_P" type="revolute">
    <origin rpy="0 0 0" xyz="-0.04 0.17 0.285"/>
    <axis xyz="0 1 0"/>
    <parent link="torso"/>
    <child link="L_SHOULDER_P_LINK"/>
    <limit effort="214.2" lower="-2.56563395666667" upper="1.04719753333333" velocity="2.96356906989"/>
  </joint>
  <joint name="L_SHOULDER_R" type="revolute">
    <origin rpy="0 0 0" xyz="0 0 0"/>
    <axis xyz="1 0 0"/>
    <parent link="L_SHOULDER_P_LINK"/>
    <child link="L_SHOULDER_R_LINK"/>
    <limit effort="60.6" lower="-0.174532922222222" upper="1.55334300777778" velocity="2.05250720035"/>
  </joint>
  <joint name="L_SHOULDER_Y" type="revolute">
    <origin rpy="0 0 0" xyz="0 0 0"/>
    <axis xyz="0 0 1"/>
    <parent link="L_SHOULDER_R_LINK"/>
    <child link="L_SHOULDER_Y_LINK"/>
    <limit effort="63.82" lower="-1.60570288444444" upper="1.60570288444444" velocity="2.94262511886"/>
  </joint>
  <joint name="L_ELBOW_P" type="revolute">
    <origin rpy="0 0 0" xyz="0 0 -0.283"/>
    <axis xyz="0 1 0"/>
    <parent link="L_SHOULDER_Y_LINK"/>
    <child link="L_ELBOW_P_LINK"/>
    <limit effort="46.99" lower="-2.14675494333333" upper="0.0349065844444444" velocity="2.64940980453"/>
  </joint>
  <joint name="L_WRIST_Y" type="fixed">
    <origin rpy="0 0 0" xyz="0 0 0"/>
    <axis xyz="0 0 1"/>
    <parent link="L_ELBOW_P_LINK"/>
    <child link="L_WRIST_Y_LINK"/>
    <limit effort="12.4" lower="-1.60570288444444" upper="1.60570288444444" velocity="4.1154863762"/>
  </joint>
  <joint name="L_WRIST_P" type="fixed">
    <origin rpy="0 0 0" xyz="0 0 -0.234"/>
    <axis xyz="0 1 0"/>
    <parent link="L_WRIST_Y_LINK"/>
    <child link="L_WRIST_P_LINK"/>
    <limit effort="12.4" lower="-0.715584981111111" upper="0.715584981111111" velocity="4.1154863762"/>
  </joint>
  <joint name="L_WRIST_R" type="fixed">
    <origin rpy="0 0 0" xyz="0 0 0"/>
    <axis xyz="1 0 0"/>
    <parent link="L_WRIST_P_LINK"/>
    <child link="l_wrist"/>
    <limit effort="12.4" lower="-1.60570288444444" upper="1.60570288444444" velocity="4.1154863762"/>
  </joint>
  <joint name="L_HAND_J0" type="fixed">
    <origin rpy="0 0.4118977034707 0" xyz="0.03419 0 -0.039"/>
    <axis xyz="0 0 1"/>
    <parent link="l_wrist"/>
    <child link="L_HAND_J0_LINK"/>
    <limit effort="1.06" lower="-1.5707963" upper="0" velocity="16.9541283539"/>
  </joint>
  <joint name="L_HAND_J1" type="fixed">
    <origin rpy="0 0 0" xyz="0 0 -0.111"/>
    <axis xyz="1 0 0"/>
    <parent link="l_wrist"/>
    <child link="L_HAND_J1_LINK"/>
    <limit effort="1.59" lower="-1.5707963" upper="0.174532922222222" velocity="11.2992615774"/>
  </joint>
  <joint name="l_sole_joint" type="fixed">
    <parent link="l_ankle"/>
    <child link="l_sole"/>
    <origin rpy="0 0 0" xyz="0 0 -0.093"/>
  </joint>
  <joint name="r_sole_joint" type="fixed">
    <parent link="r_ankle"/>
    <child link="r_sole"/>
    <origin rpy="0 0 0" xyz="0 0 -0.093"/>
  </joint>

  <joint name="R_F22" type="fixed">
    <origin rpy="0 -0 3.1415926535" xyz="0.0253 0 -0.045"/>
    <axis xyz="1 0 0"/>
    <parent link="R_HAND_J1_LINK"/>
    <child link="R_F22_LINK"/>
    <limit effort="1" lower="-1.22173045555556" upper="0" velocity="1"/>
    <mimic joint="R_HAND_J1" multiplier="1" offset="0"/>
  </joint>
  <joint name="R_F23" type="fixed">
    <origin rpy="0 0 0" xyz="0 0 -0.024"/>
    <axis xyz="1 0 0"/>
    <parent link="R_F22_LINK"/>
    <child link="R_F23_LINK"/>
    <limit effort="1" lower="-1.22173045555556" upper="0" velocity="1"/>
    <mimic joint="R_HAND_J1" multiplier="1" offset="0"/>
  </joint>
  <joint name="R_F32" type="fixed">
    <origin rpy="0 -0 3.1415926535" xyz="0.0051 0 -0.045"/>
    <axis xyz="1 0 0"/>
    <parent link="R_HAND_J1_LINK"/>
    <child link="R_F32_LINK"/>
    <limit effort="1" lower="-1.22173045555556" upper="0" velocity="1"/>
    <mimic joint="R_HAND_J1" multiplier="1" offset="0"/>
  </joint>
  <joint name="R_F33" type="fixed">
    <origin rpy="0 0 0" xyz="0 0 -0.024"/>
    <axis xyz="1 0 0"/>
    <parent link="R_F32_LINK"/>
    <child link="R_F33_LINK"/>
    <limit effort="1" lower="-1.22173045555556" upper="0" velocity="1"/>
    <mimic joint="R_HAND_J1" multiplier="1" offset="0"/>
  </joint>
  <joint name="R_F42" type="fixed">
    <origin rpy="0 -0 3.1415926535" xyz="-0.0151 0 -0.045"/>
    <axis xyz="1 0 0"/>
    <parent link="R_HAND_J1_LINK"/>
    <child link="R_F42_LINK"/>
    <limit effort="1" lower="-1.22173045555556" upper="0" velocity="1"/>
    <mimic joint="R_HAND_J1" multiplier="1" offset="0"/>
  </joint>
  <joint name="R_F43" type="fixed">
    <origin rpy="0 0 0" xyz="0 0 -0.024"/>
    <axis xyz="1 0 0"/>
    <parent link="R_F42_LINK"/>
    <child link="R_F43_LINK"/>
    <limit effort="1" lower="-1.22173045555556" upper="0" velocity="1"/>
    <mimic joint="R_HAND_J1" multiplier="1" offset="0"/>
  </joint>
  <joint name="R_F52" type="fixed">
    <origin rpy="0 -0 3.1415926535" xyz="-0.0353 0 -0.045"/>
    <axis xyz="1 0 0"/>
    <parent link="R_HAND_J1_LINK"/>
    <child link="R_F52_LINK"/>
    <limit effort="1" lower="-1.22173045555556" upper="0" velocity="1"/>
    <mimic joint="R_HAND_J1" multiplier="1" offset="0"/>
  </joint>
  <joint name="R_F53" type="fixed">
    <origin rpy="0 0 0" xyz="0 0 -0.024"/>
    <axis xyz="1 0 0"/>
    <parent link="R_F52_LINK"/>
    <child link="R_F53_LINK"/>
    <limit effort="1" lower="-1.22173045555556" upper="0" velocity="1"/>
    <mimic joint="R_HAND_J1" multiplier="1" offset="0"/>
  </joint>
  <joint name="L_F22" type="fixed">
    <origin rpy="0 0 0" xyz="0.0253 0 -0.045"/>
    <axis xyz="1 0 0"/>
    <parent link="L_HAND_J1_LINK"/>
    <child link="L_F22_LINK"/>
    <limit effort="1" lower="-1.22173045555556" upper="0" velocity="1"/>
    <mimic joint="L_HAND_J1" multiplier="1" offset="0"/>
  </joint>
  <joint name="L_F23" type="fixed">
    <origin rpy="0 0 0" xyz="0 0 -0.024"/>
    <axis xyz="1 0 0"/>
    <parent link="L_F22_LINK"/>
    <child link="L_F23_LINK"/>
    <limit effort="1" lower="-1.22173045555556" upper="0" velocity="1"/>
    <mimic joint="L_HAND_J1" multiplier="1" offset="0"/>
  </joint>
  <joint name="L_F32" type="fixed">
    <origin rpy="0 0 0" xyz="0.0051 0 -0.045"/>
    <axis xyz="1 0 0"/>
    <parent link="L_HAND_J1_LINK"/>
    <child link="L_F32_LINK"/>
    <limit effort="1" lower="-1.22173045555556" upper="0" velocity="1"/>
    <mimic joint="L_HAND_J1" multiplier="1" offset="0"/>
  </joint>
  <joint name="L_F33" type="fixed">
    <origin rpy="0 0 0" xyz="0 0 -0.024"/>
    <axis xyz="1 0 0"/>
    <parent link="L_F32_LINK"/>
    <child link="L_F33_LINK"/>
    <limit effort="1" lower="-1.22173045555556" upper="0" velocity="1"/>
    <mimic joint="L_HAND_J1" multiplier="1" offset="0"/>
  </joint>
  <joint name="L_F42" type="fixed">
    <origin rpy="0 0 0" xyz="-0.0151 0 -0.045"/>
    <axis xyz="1 0 0"/>
    <parent link="L_HAND_J1_LINK"/>
    <child link="L_F42_LINK"/>
    <limit effort="1" lower="-1.22173045555556" upper="0" velocity="1"/>
    <mimic joint="L_HAND_J1" multiplier="1" offset="0"/>
  </joint>
  <joint name="L_F43" type="fixed">
    <origin rpy="0 0 0" xyz="0 0 -0.024"/>
    <axis xyz="1 0 0"/>
    <parent link="L_F42_LINK"/>
    <child link="L_F43_LINK"/>
    <limit effort="1" lower="-1.22173045555556" upper="0" velocity="1"/>
    <mimic joint="L_HAND_J1" multiplier="1" offset="0"/>
  </joint>
  <joint name="L_F52" type="fixed">
    <origin rpy="0 0 0" xyz="-0.0353 0 -0.045"/>
    <axis xyz="1 0 0"/>
    <parent link="L_HAND_J1_LINK"/>
    <child link="L_F52_LINK"/>
    <limit effort="1" lower="-1.22173045555556" upper="0" velocity="1"/>
    <mimic joint="L_HAND_J1" multiplier="1" offset="0"/>
  </joint>
  <joint name="L_F53" type="fixed">
    <origin rpy="0 0 0" xyz="0 0 -0.024"/>
    <axis xyz="1 0 0"/>
    <parent link="L_F52_LINK"/>
    <child link="L_F53_LINK"/>
    <limit effort="1" lower="-1.22173045555556" upper="0" velocity="1"/>
    <mimic joint="L_HAND_J1" multiplier="1" offset="0"/>
  </joint>
  <!-- right foot -->
  <joint name="R_FOOT" type="fixed">
    <origin rpy="0 0 0" xyz="0 0 0"/>
    <axis xyz="0 0 0"/>
    <parent link="R_ANKLE_R_LINK"/>
    <child link="r_ankle"/>
  </joint>
  <link name="r_ankle">
    <inertial>
      <origin rpy="0 0 0" xyz="0.01130279 -0.01139641 -0.07868422"/>
      <mass value="0.57831553"/>
      <inertia ixx="0.00121526" ixy="8.51e-06" ixz="2.787e-05" iyy="0.00254705" iyz="-2.1e-06" izz="0.00362666"/>
    </inertial>
    <visual>
      <origin rpy="0 0 0" xyz="0 0 0"/>
      <geometry>
        <mesh filename="./meshes/R_FOOT.dae"/>
      </geometry>
    </visual>
    <collision>
      <origin rpy="0 0 0" xyz="0 0 0"/>
      <geometry>
        <mesh filename="./meshes/R_FOOT.dae"/>
      </geometry>
    </collision>
  </link>
  <!-- left foot -->
  <joint name="L_FOOT" type="fixed">
    <origin rpy="0 0 0" xyz="0 0 0"/>
    <axis xyz="0 0 0"/>
    <parent link="L_ANKLE_R_LINK"/>
    <child link="l_ankle"/>
  </joint>
  <link name="l_ankle">
    <inertial>
      <origin rpy="0 0 0" xyz="0.01130279 0.01139641 -0.07868422"/>
      <mass value="0.57831553"/>
      <inertia ixx="0.00121526" ixy="-8.51e-06" ixz="2.787e-05" iyy="0.00254705" iyz="2.1e-06" izz="0.00362666"/>
    </inertial>
    <visual>
      <origin rpy="0 0 0" xyz="0 0 0"/>
      <geometry>
        <mesh filename="./meshes/L_FOOT.dae"/>
      </geometry>
    </visual>
    <collision>
      <origin rpy="0 0 0" xyz="0 0 0"/>
      <geometry>
        <mesh filename="./meshes/L_FOOT.dae"/>
      </geometry>
    </collision>
  </link>
</robot>
